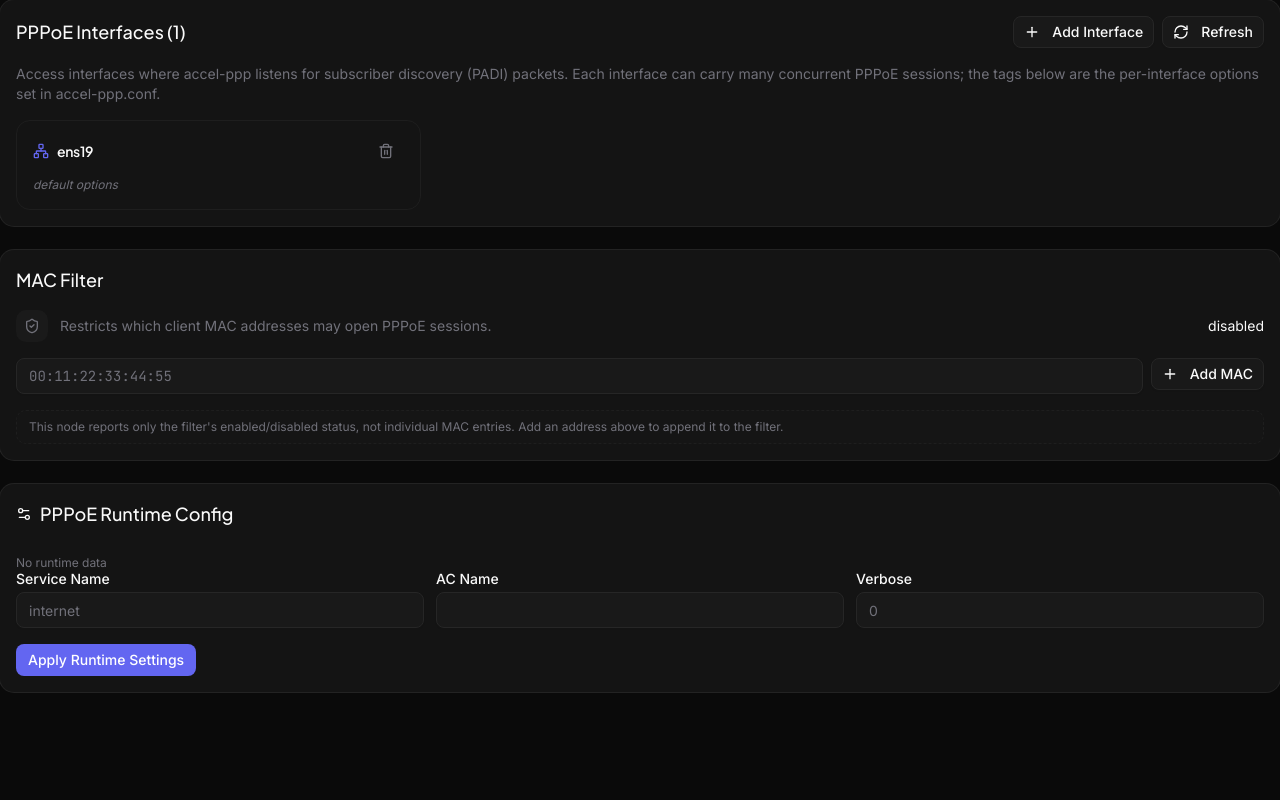
PppoePage › surfaces an add-interface error (Error branch)
Click the button "Add Interface".
click(1084, 32)  # box [1013, 16, 1154, 48]
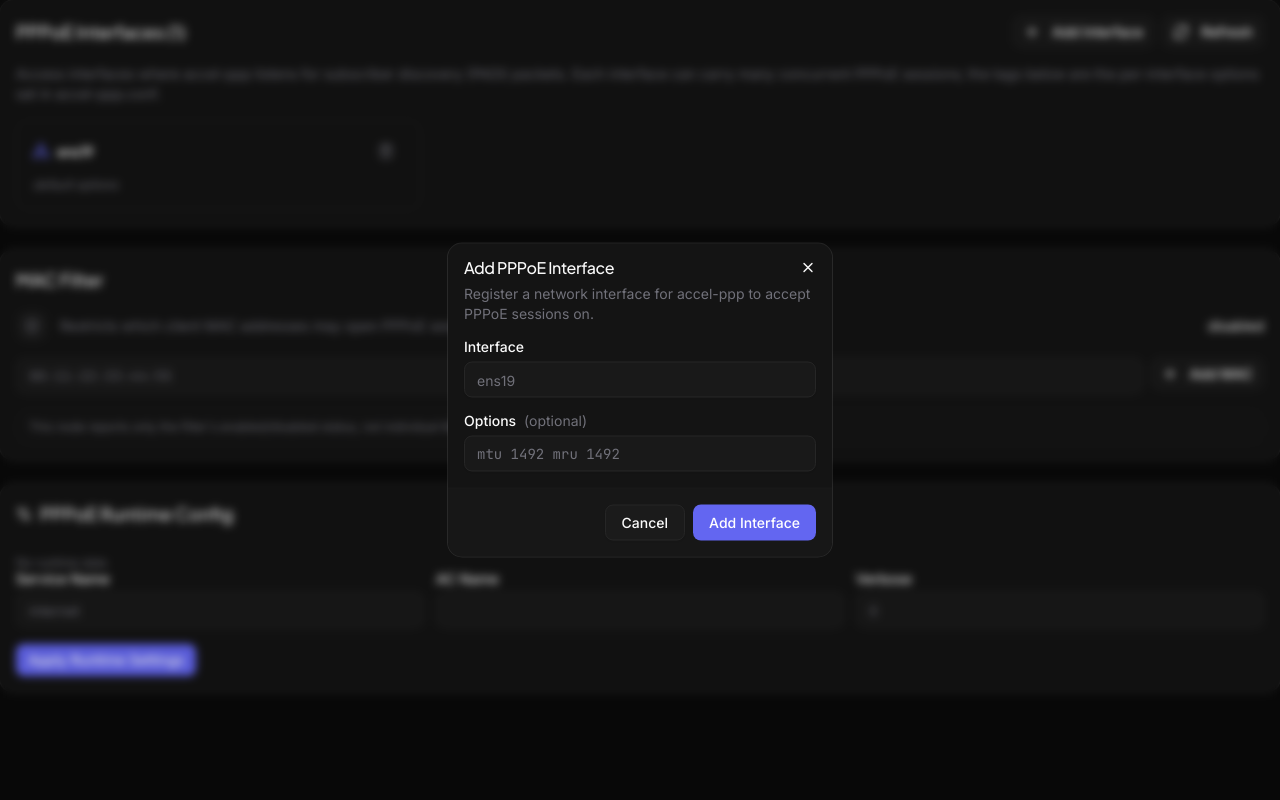
Type "ens21" into the field with placeholder "ens19".
click(640, 380); type("ens21")  # box [464, 362, 816, 398]
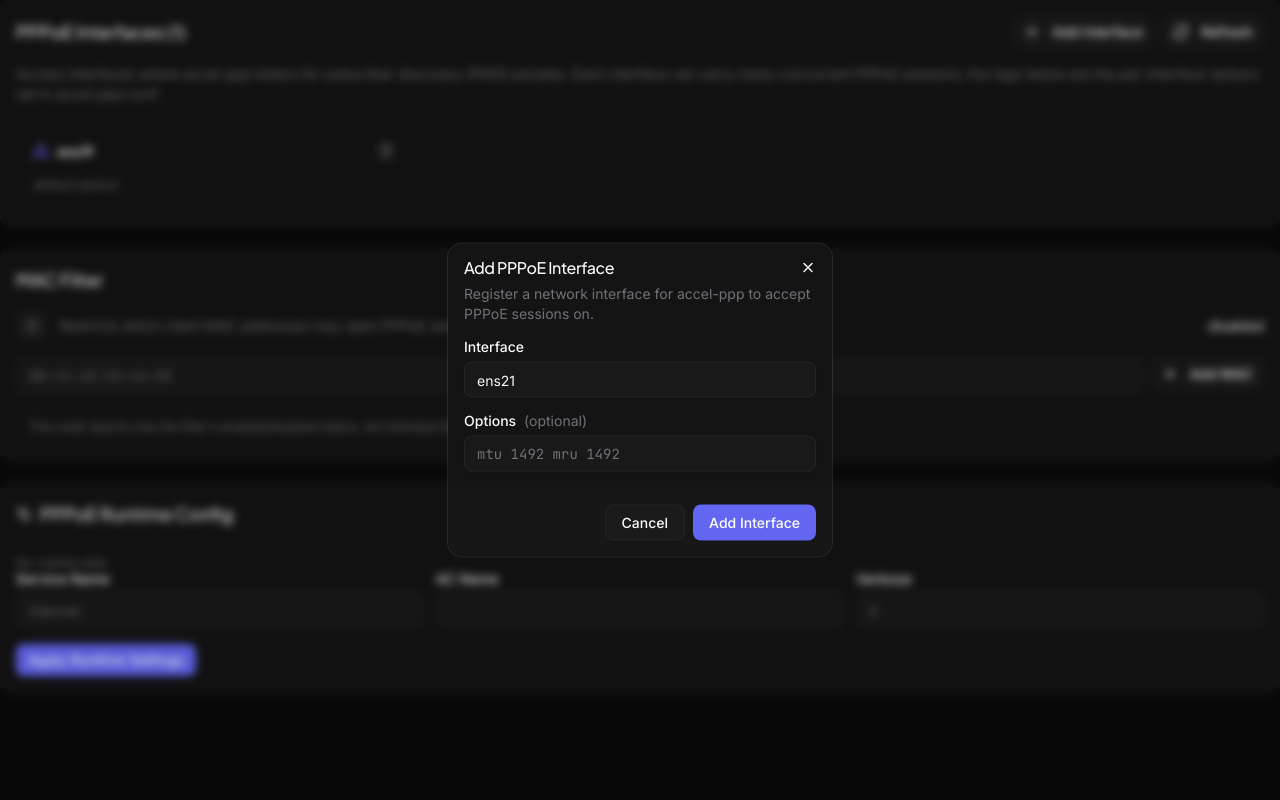
Submit the text "Add Interface", box [464, 340, 816, 540]
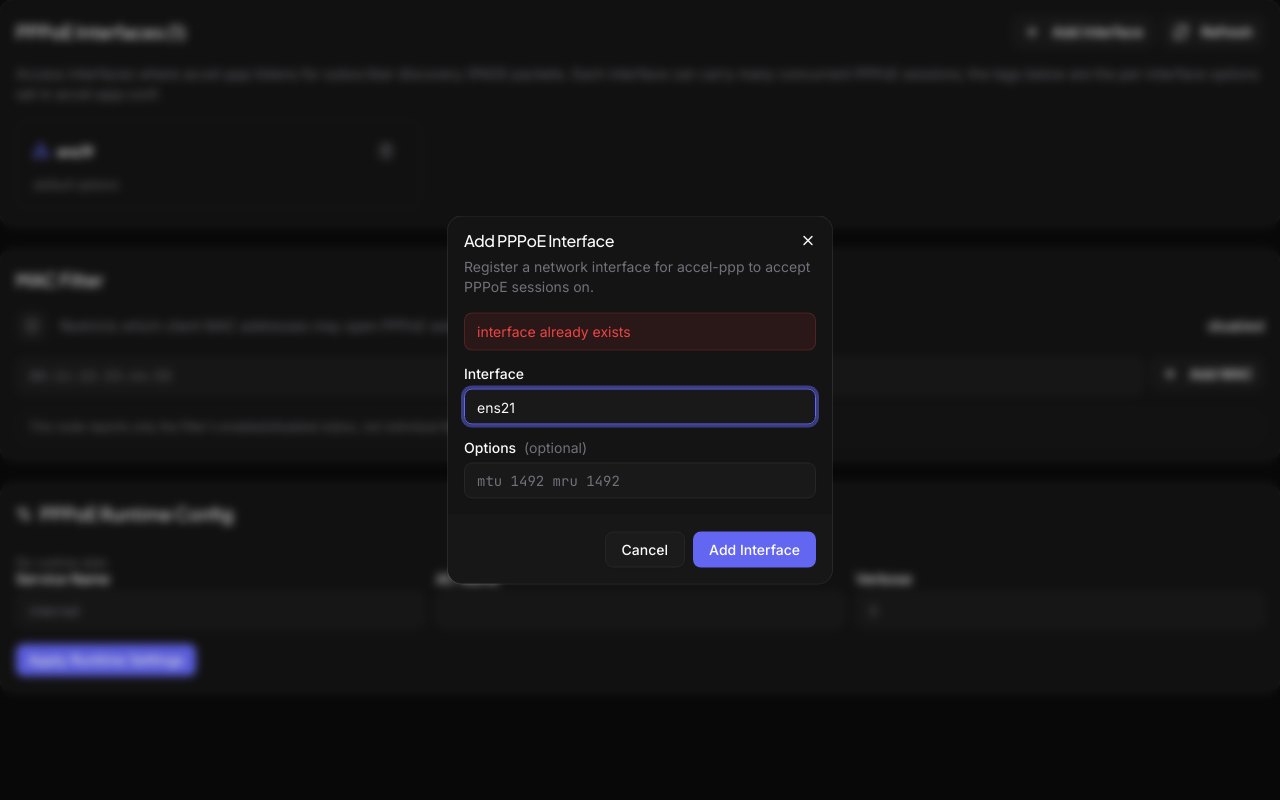
Check: the text "interface already exists" is shown, box [464, 312, 816, 350]
